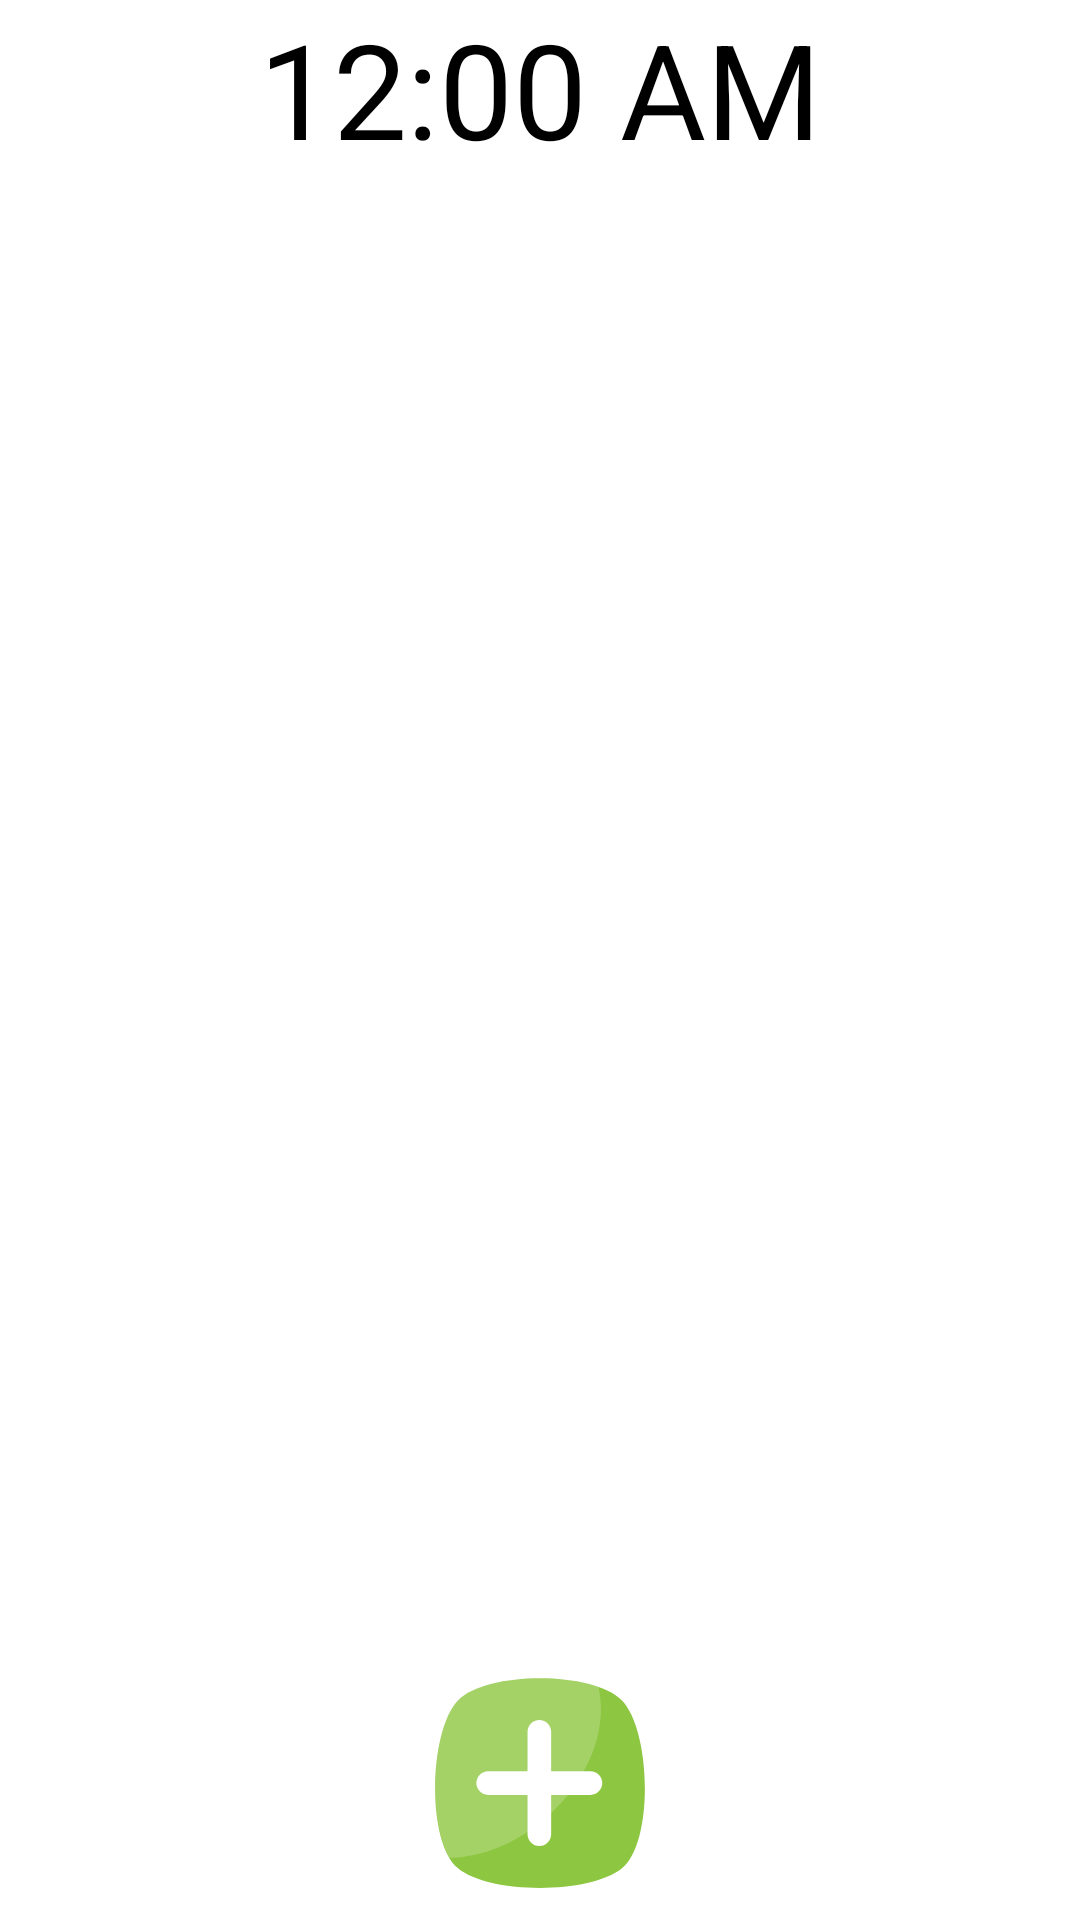

Screen size 1080x1920. Icon name, then its center in pixels as (x,y):
plus: (540,1783)
